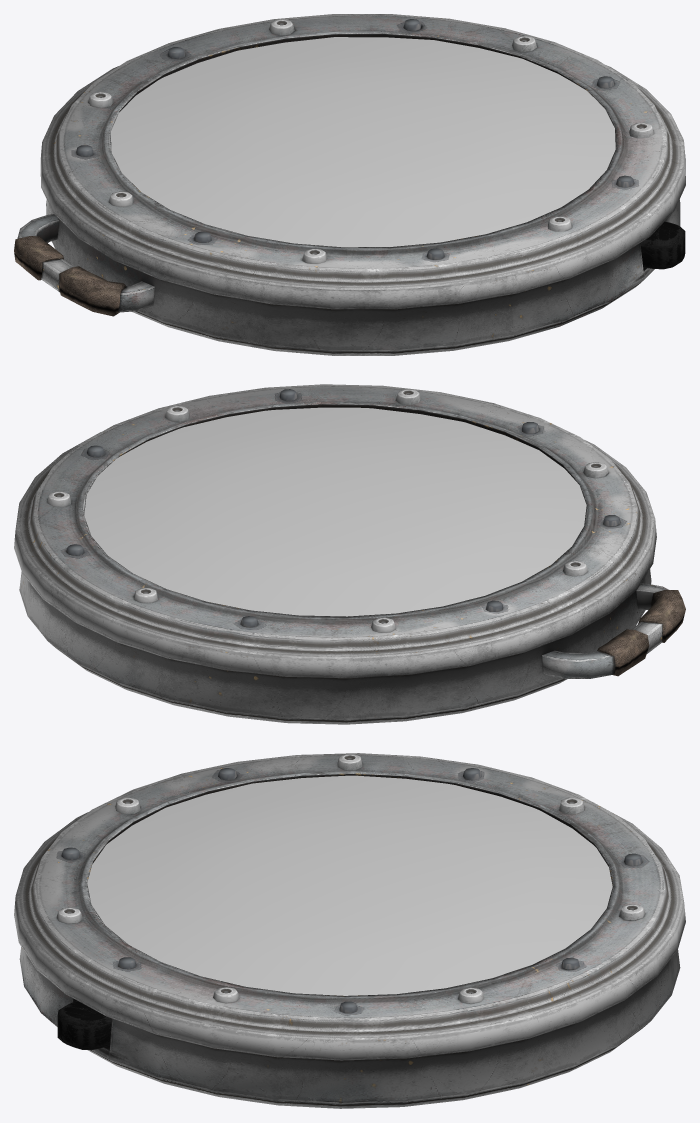
Rendered from Compass.fbx.
3 renders of one model, top to bottom at view 1: azimuth 30°, elevation 25°; view 2: azimuth 150°, elevation 25°; view 3: azimuth 270°, elevation 25°, orthographic. The views are drawn at different scales.
Visible parts, largest first — view 1: Compass_LOD0, CompassGlass_LOD0; view 2: Compass_LOD0, CompassGlass_LOD0; view 3: Compass_LOD0, CompassGlass_LOD0.
Boxes of the visible parts, <box> form: Compass_LOD0: <box>14,14,685,355</box>; CompassGlass_LOD0: <box>110,37,615,247</box>; Compass_LOD0: <box>14,384,685,724</box>; CompassGlass_LOD0: <box>84,407,586,616</box>; Compass_LOD0: <box>14,753,685,1108</box>; CompassGlass_LOD0: <box>87,775,612,995</box>.
Size of what is drawn, in the model's own units: 7.55 by 1.29 by 7.03.
